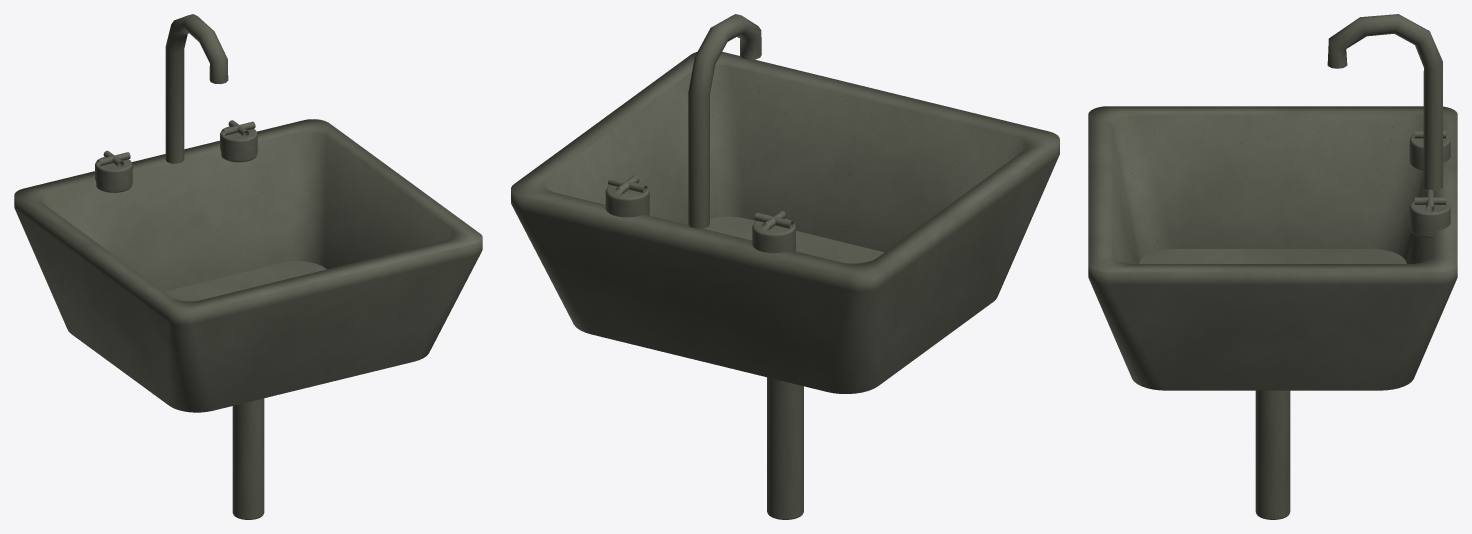
The model's file is sink.glb.
3 views of the same model, side by side, from view 1: azimuth 30°, elevation 25°; view 2: azimuth 150°, elevation 25°; view 3: azimuth 270°, elevation 25° (orthographic). The views are drawn at different scales.
Parts seen in each view (by area): view 1: Continuous open basin and rolled rim, Gooseneck faucet, Drain pipe, Mixer tap base, Mixer tap base.001; view 2: Continuous open basin and rolled rim, Gooseneck faucet, Drain pipe, Mixer tap base.001, Mixer tap base; view 3: Continuous open basin and rolled rim, Gooseneck faucet, Drain pipe, Mixer tap base.001, Mixer tap base.
Boxes of the visible parts, box(x1,y1,x2,y2) form: Continuous open basin and rolled rim: box(14, 119, 482, 412); Gooseneck faucet: box(165, 14, 228, 163); Drain pipe: box(232, 398, 264, 519); Mixer tap base: box(95, 157, 132, 192); Mixer tap base.001: box(220, 126, 257, 162); Continuous open basin and rolled rim: box(511, 51, 1059, 393); Gooseneck faucet: box(688, 14, 761, 228); Drain pipe: box(767, 377, 803, 519); Mixer tap base.001: box(605, 182, 649, 217); Mixer tap base: box(752, 218, 795, 253); Continuous open basin and rolled rim: box(1088, 106, 1457, 390); Gooseneck faucet: box(1327, 14, 1442, 190); Drain pipe: box(1255, 390, 1290, 519); Mixer tap base.001: box(1409, 201, 1450, 237); Mixer tap base: box(1409, 134, 1450, 170).
Size of the model in its own units: 0.5 by 0.6991 by 0.47.
Materials: 2 (1 with a texture image).
